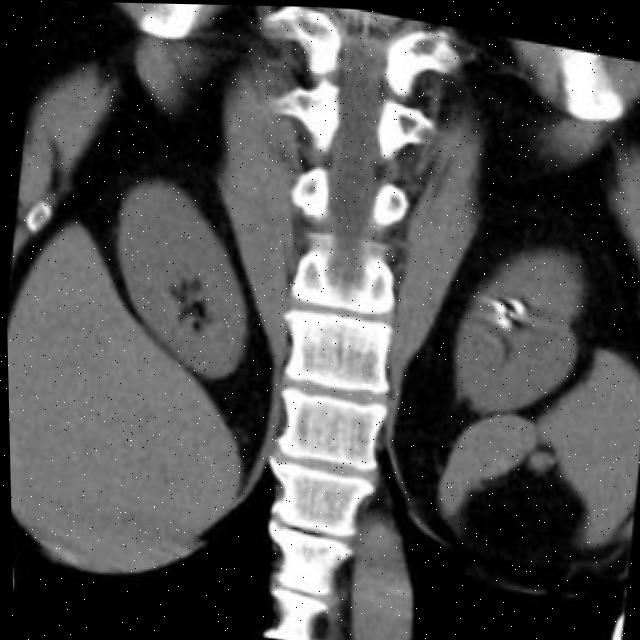Tas_Var: (507, 293, 526, 316), (489, 298, 506, 315), (493, 313, 509, 329)
